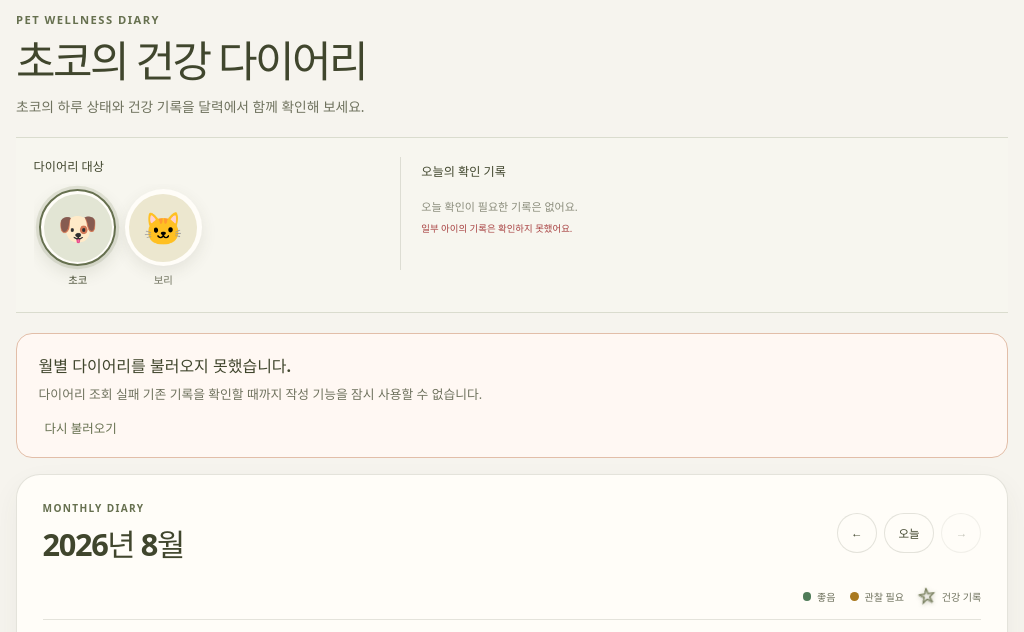
it: HealthDiaryPage backend integration flow › disables editing after a diary load failure and restores it through retry
Check: the text "다이어리 조회 실패 기존 기록을 확인할 때까지 작성 기능을 잠시 사용할 수 없습니다." is shown, box top-left (39, 385), bottom-right (482, 403)
Click the button "다시 불러오기" at x=81, y=428, box top-left (39, 418), bottom-right (123, 438)
(page scrolled)
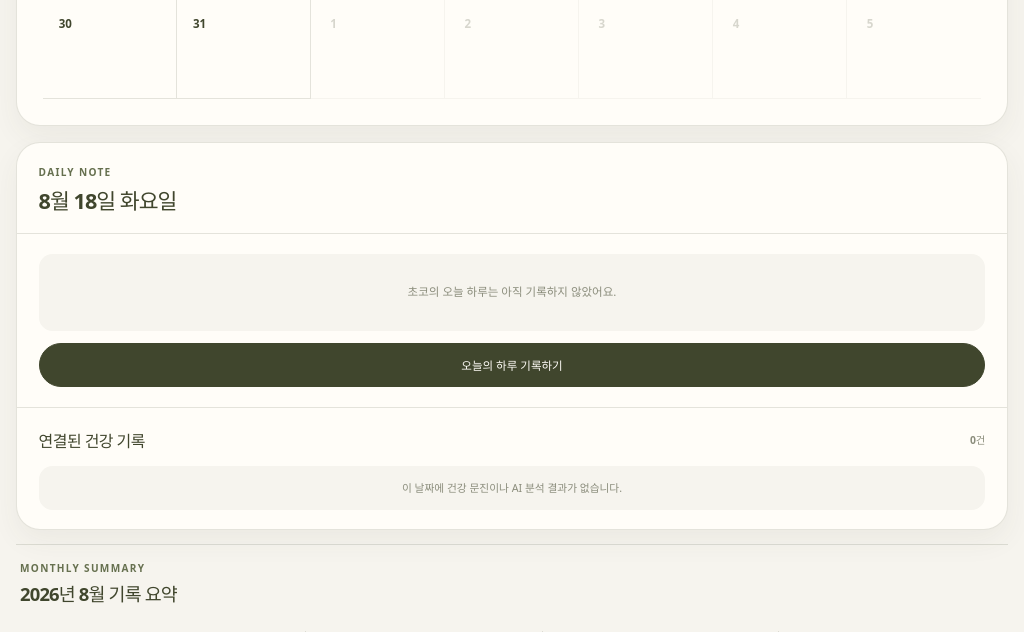
Check: the button "오늘의 하루 기록하기" is enabled, box top-left (39, 343), bottom-right (985, 388)
